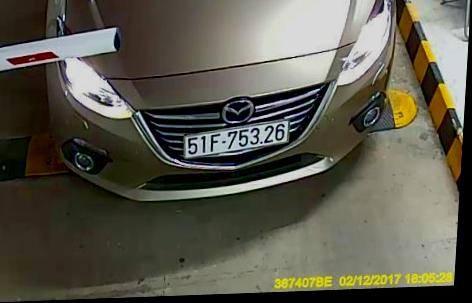License_Plate: (185, 121, 288, 156)
